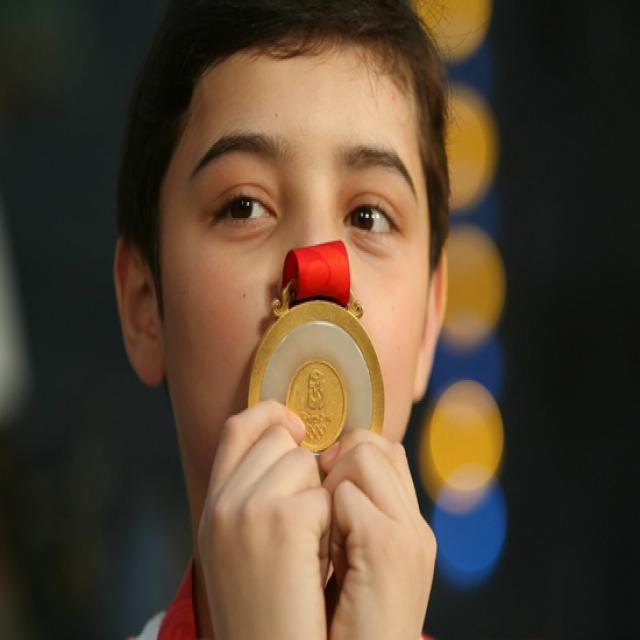nomask: (174, 41, 433, 524)
